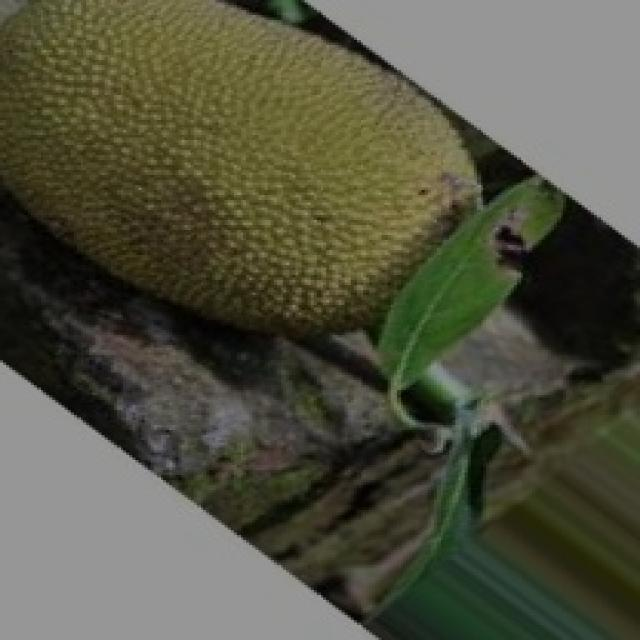Fruit: (181, 0, 554, 385)
